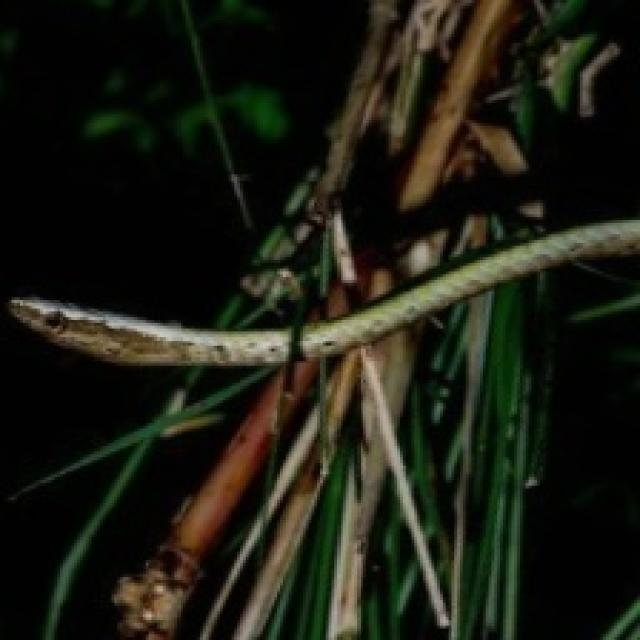philippine whip snake: (300, 220, 637, 354), (9, 297, 289, 363)
